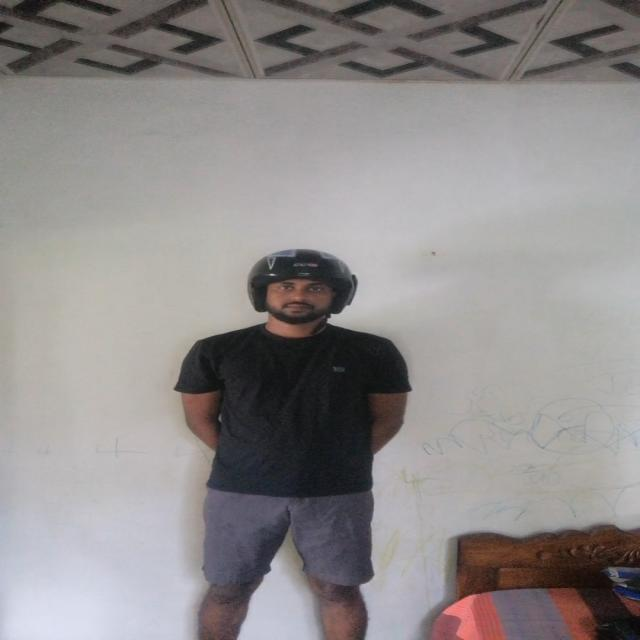Helmet_Wearer: (220, 242, 374, 355)
Person: (177, 254, 410, 640)
